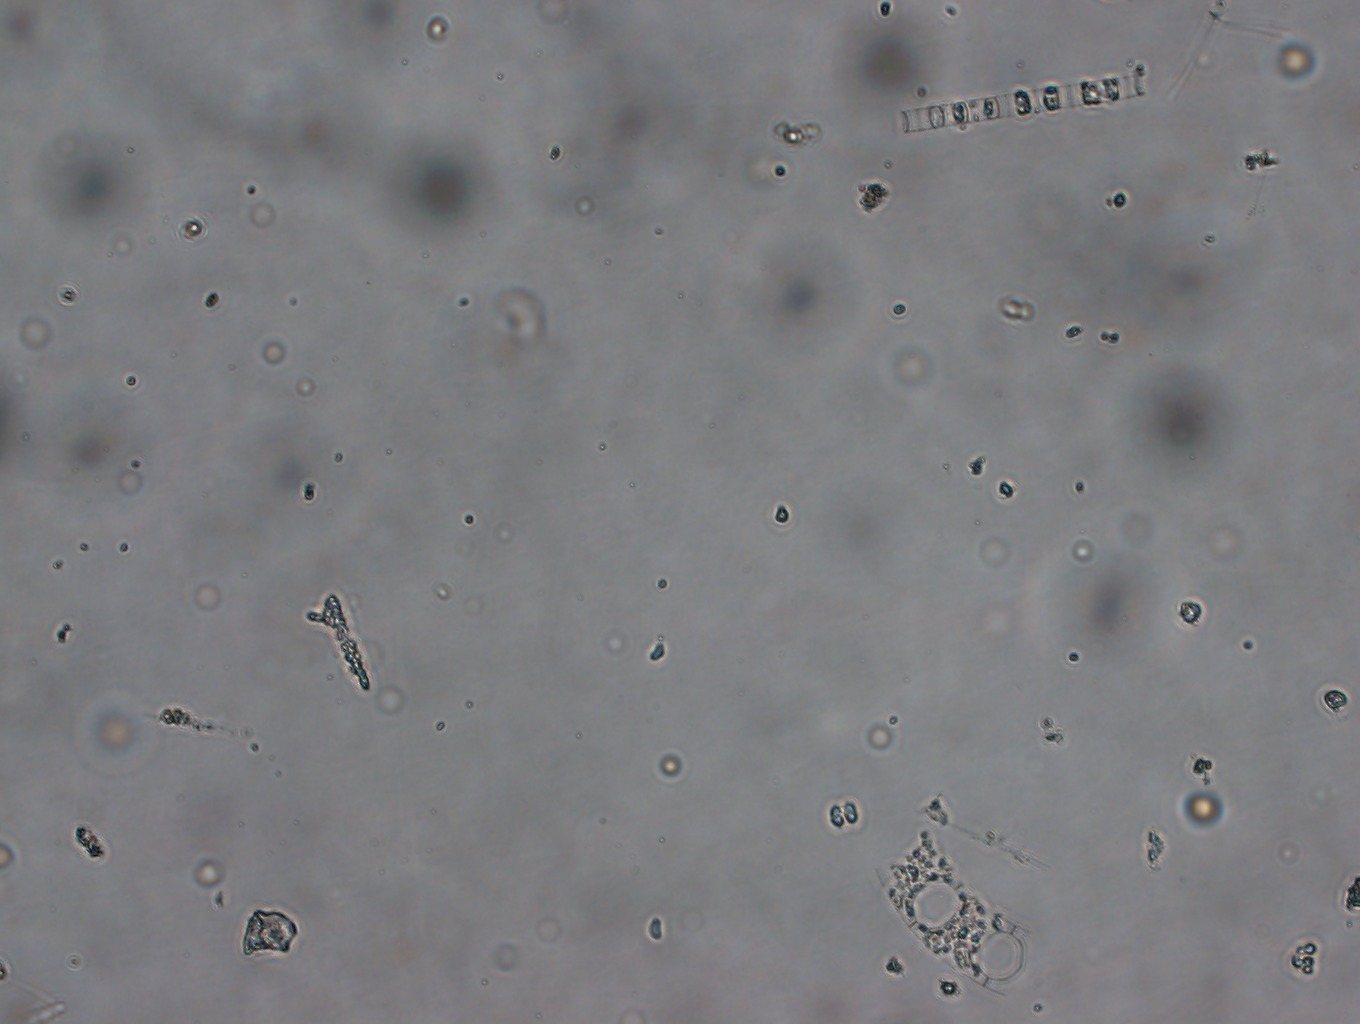eucampia: (847, 796, 1078, 1019)
skeletonema: (876, 68, 1176, 132)
